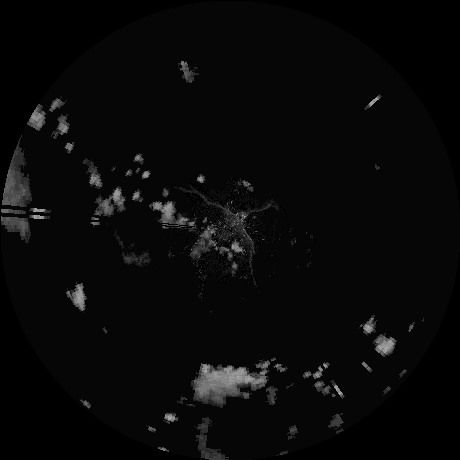frontgust: (187, 190, 256, 263)
